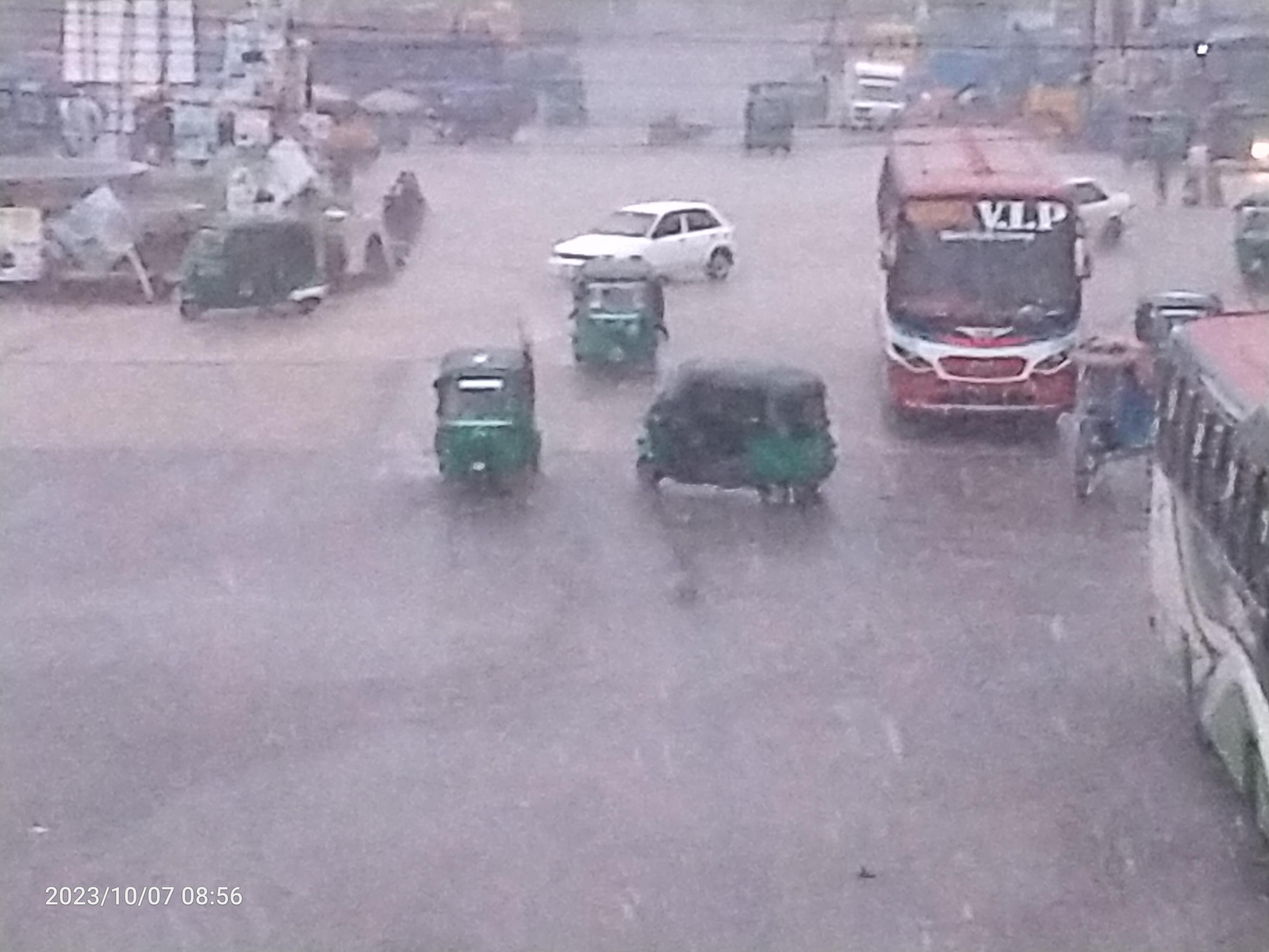Bus: (859, 101, 1080, 459), (1128, 301, 1269, 840)
Car: (538, 180, 748, 297), (837, 45, 911, 152)
